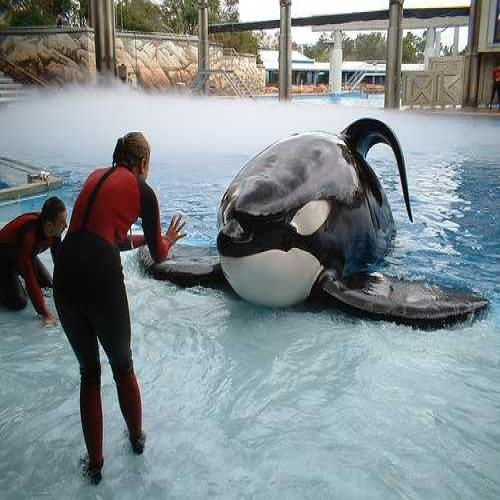killer_whale-endangered: (132, 92, 484, 351)
